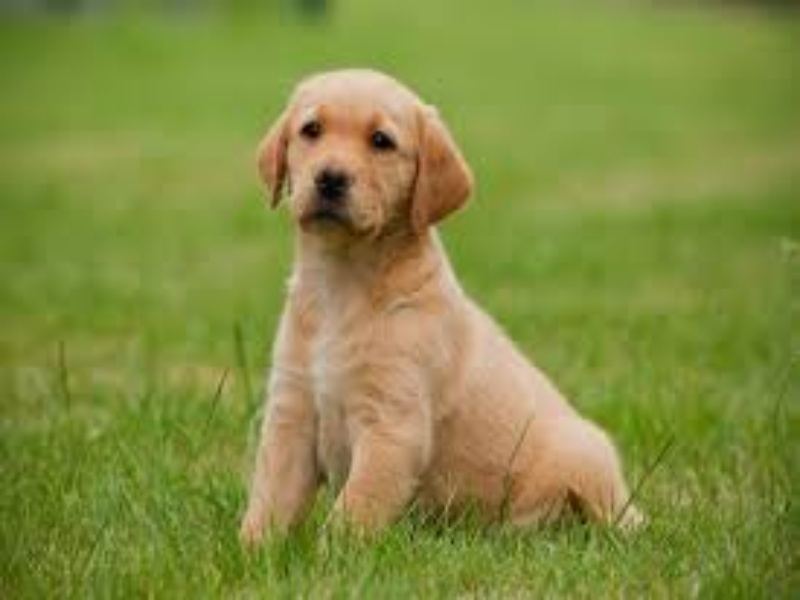dog: (228, 64, 661, 578)
